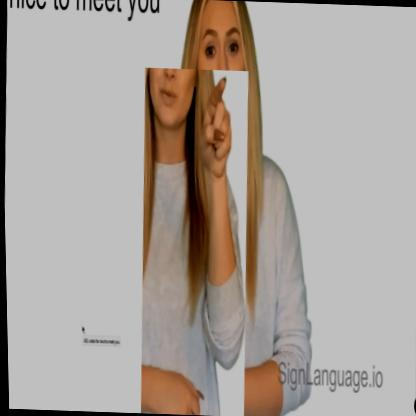NiceToMeetYou: (133, 68, 254, 416)
